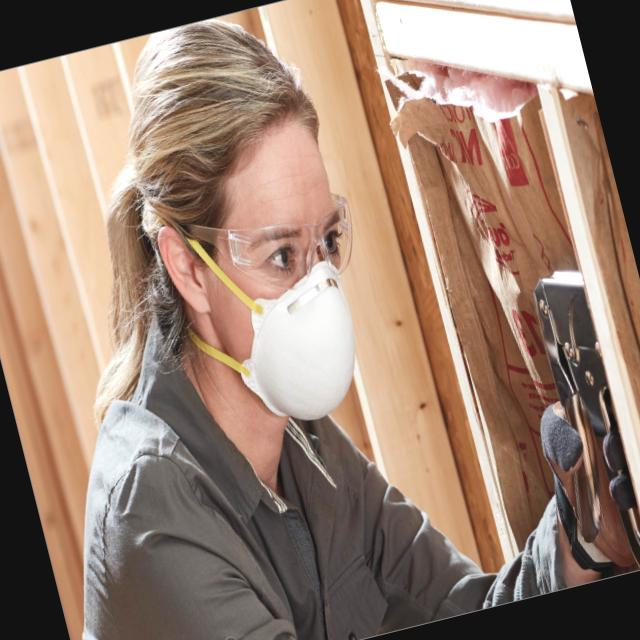goggles: (195, 184, 370, 310)
no-helmet: (86, 0, 357, 240)
no-vest: (34, 333, 384, 640)
